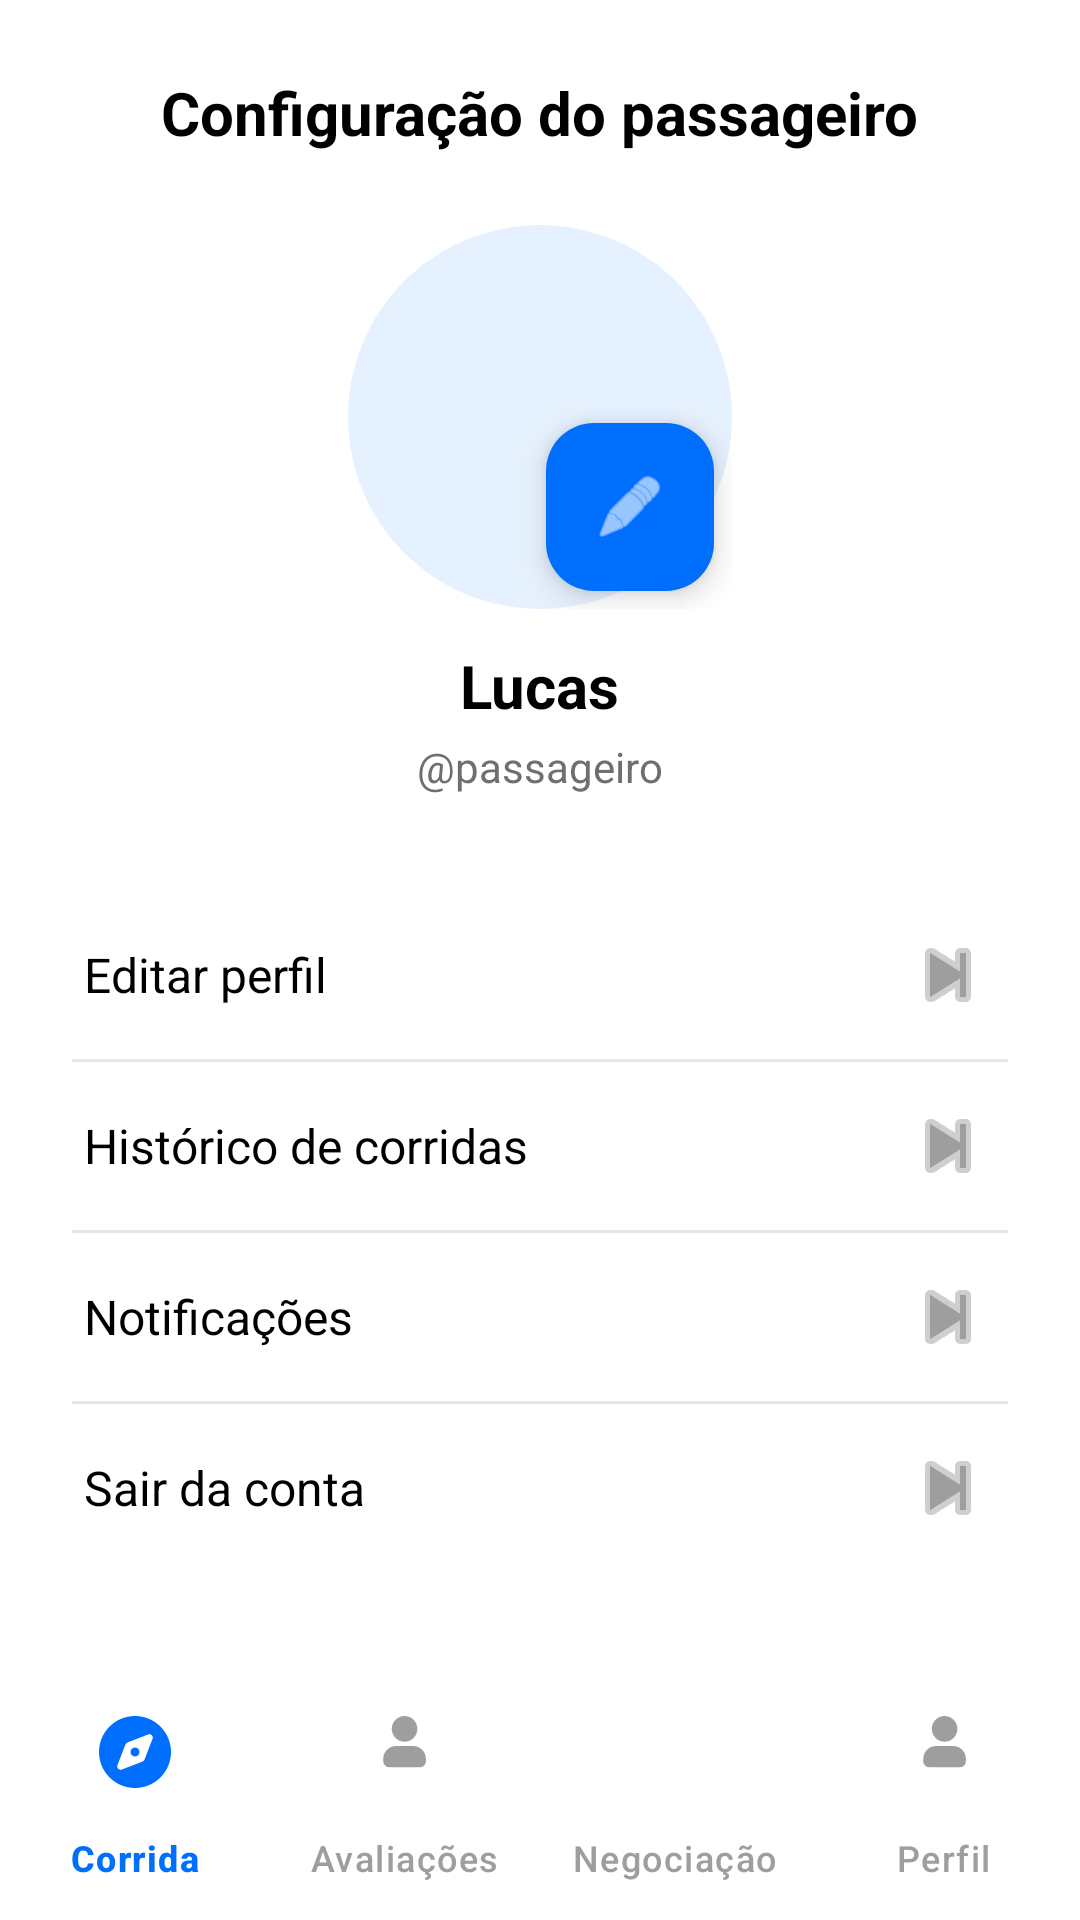

Named icons in this screenshot (1080 x 1920) and their centers, point (x, y):
Editar perfil: point (630, 507)
next: point (948, 975), point (948, 1146), point (948, 1317), point (948, 1488)
